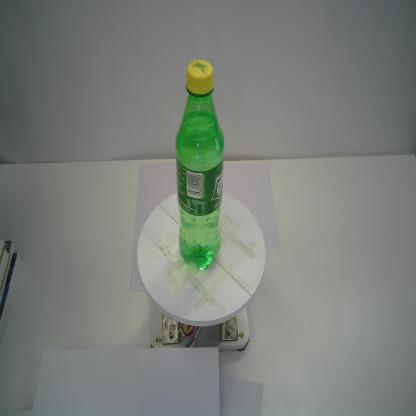Drink: (175, 58, 225, 270)
